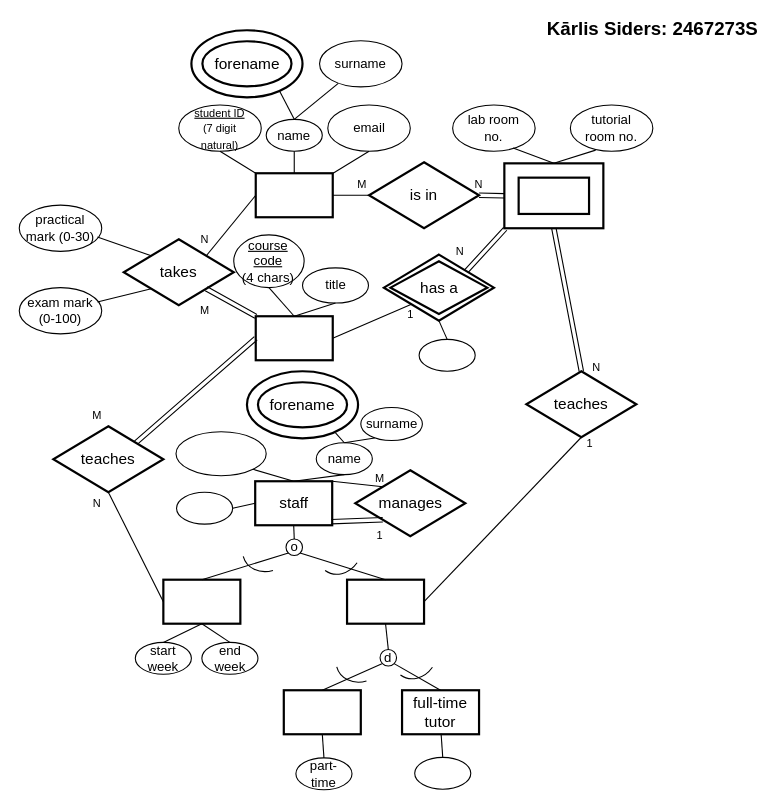
Some shapes in this 783 by 810 pixel diagram are drawn without their labels. Each missing label, with the centre of its shape:
course: point (293, 338)
full-time: point (442, 772)
job title: point (204, 507)
lecturer: point (201, 601)
no.: point (446, 354)
part-time tutor: point (321, 712)
staff no. (7 digit natural): point (220, 453)
student: point (293, 195)
tutor: point (385, 601)
tutorial group: point (553, 195)
